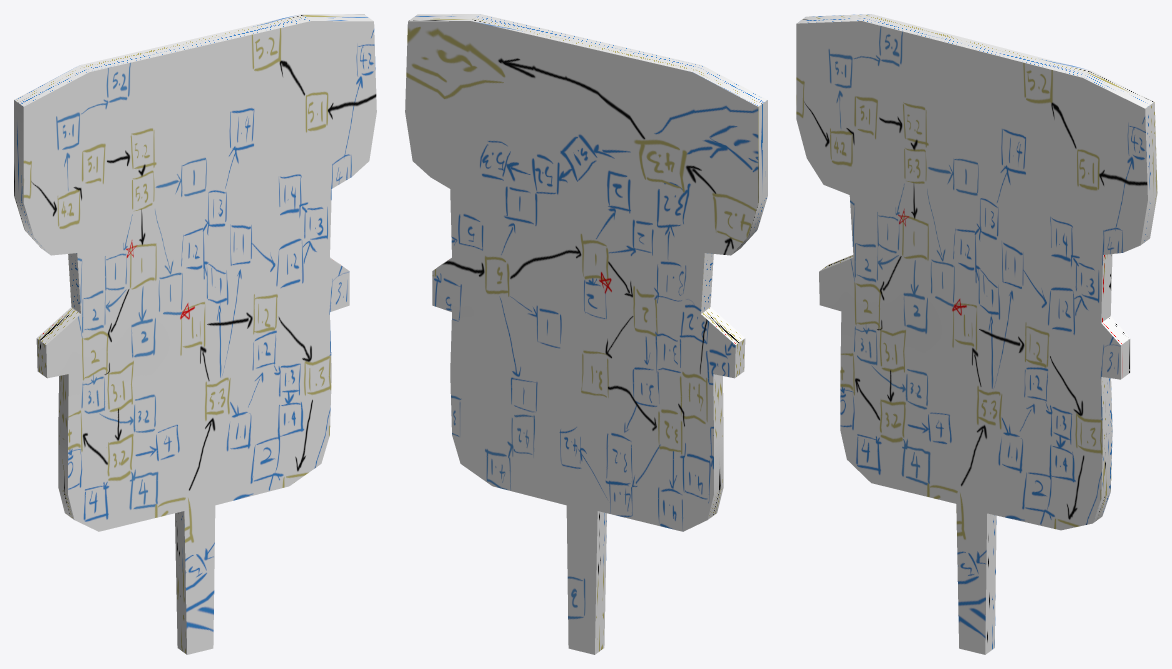
The model's file is mhy_stall.fbx.
3 renders of one model, left to right at view 1: azimuth 30°, elevation 25°; view 2: azimuth 150°, elevation 25°; view 3: azimuth 330°, elevation 25°, orthographic.
Parts seen in each view (by area): view 1: stall; view 2: stall; view 3: stall.
Part boxes in pixels (x1=…): stall: x1=14, y1=14, x2=376, y2=654; stall: x1=405, y1=14, x2=767, y2=654; stall: x1=796, y1=14, x2=1157, y2=654.
Bounding box in the file's own units: 106 × 174 × 5.
